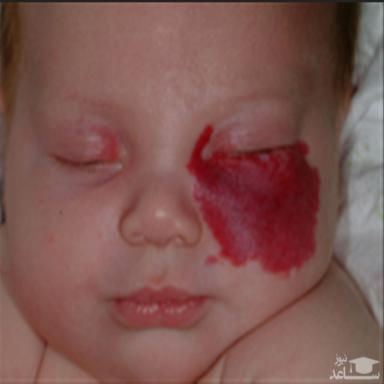Hemangiome: (187, 126, 320, 272)
